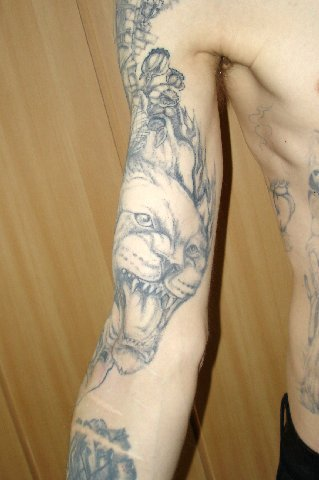tatu5_tigr: (111, 173, 210, 378)
